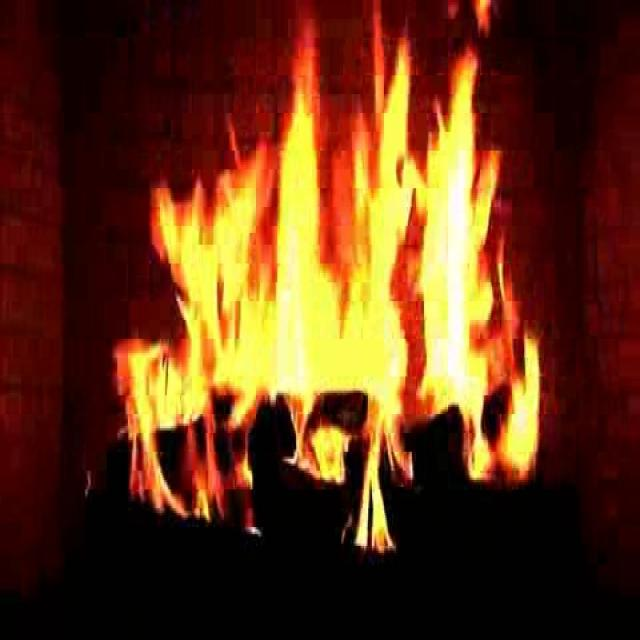fire: (133, 36, 529, 514)
